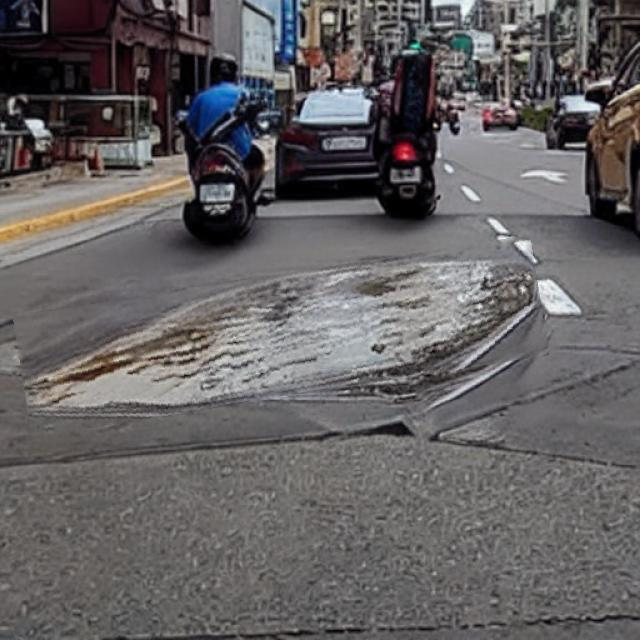puddle: (17, 256, 547, 418)
